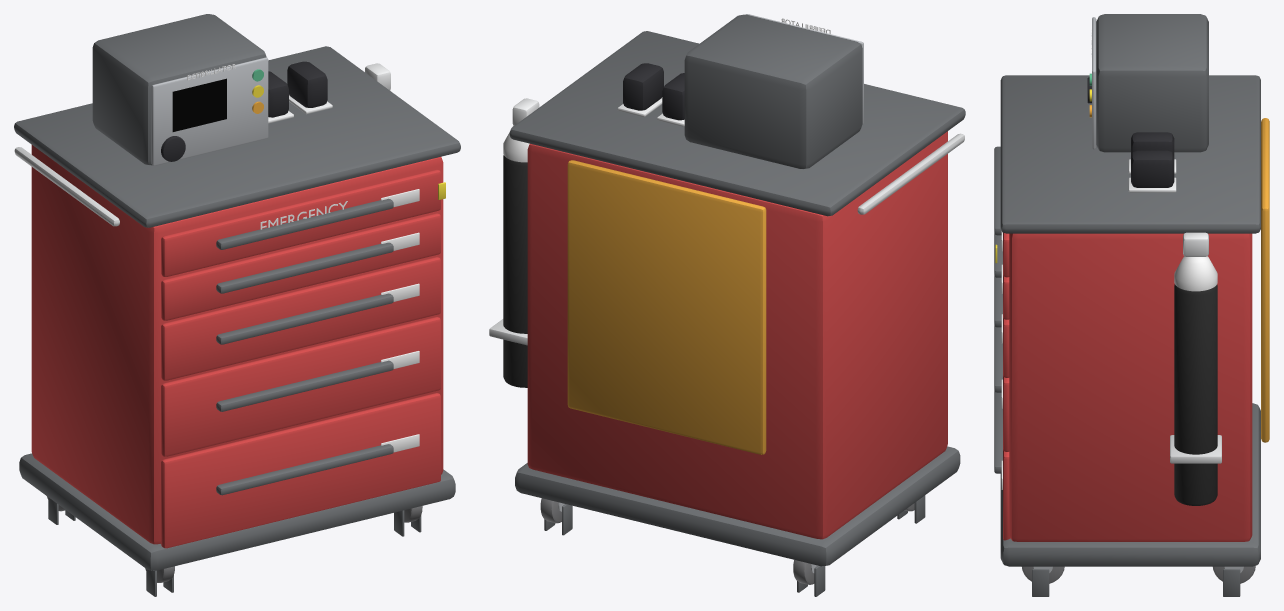
The model's file is CrashCart.fbx.
3 renders of one model, left to right at view 1: azimuth 30°, elevation 25°; view 2: azimuth 150°, elevation 25°; view 3: azimuth 270°, elevation 25°, orthographic. The views are drawn at different scales.
Visible parts, largest first — view 1: CrashCart_Mesh, CrashCart_Screen_defib; view 2: CrashCart_Mesh; view 3: CrashCart_Mesh.
Boxes of the visible parts, x1,y1,x2,y2 form: CrashCart_Mesh: (14, 14, 460, 596); CrashCart_Screen_defib: (172, 78, 226, 131); CrashCart_Mesh: (489, 14, 965, 596); CrashCart_Mesh: (994, 14, 1269, 596).
Bounding box in the file's own units: 0.96 × 1.2 × 0.635.
